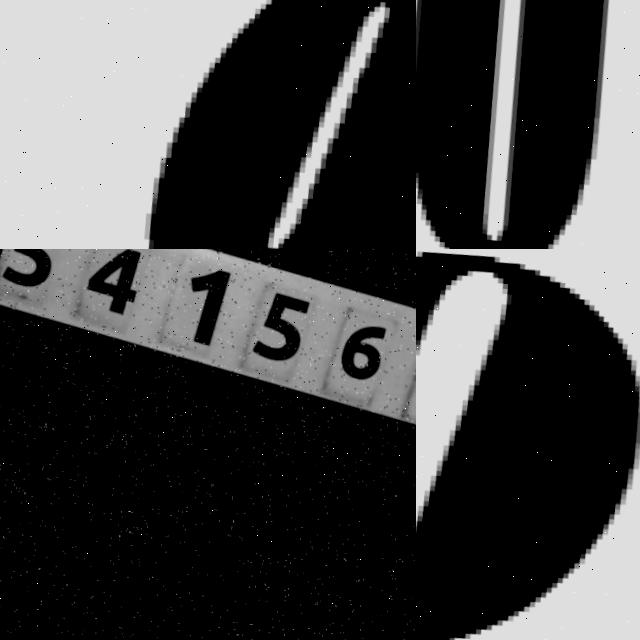0: (391, 327, 416, 432)
1: (151, 249, 234, 354)
4: (64, 249, 155, 333)
5: (231, 273, 318, 380), (0, 249, 70, 308)
6: (317, 302, 394, 400)
9: (53, 0, 416, 249)
Q: (416, 249, 640, 640)
